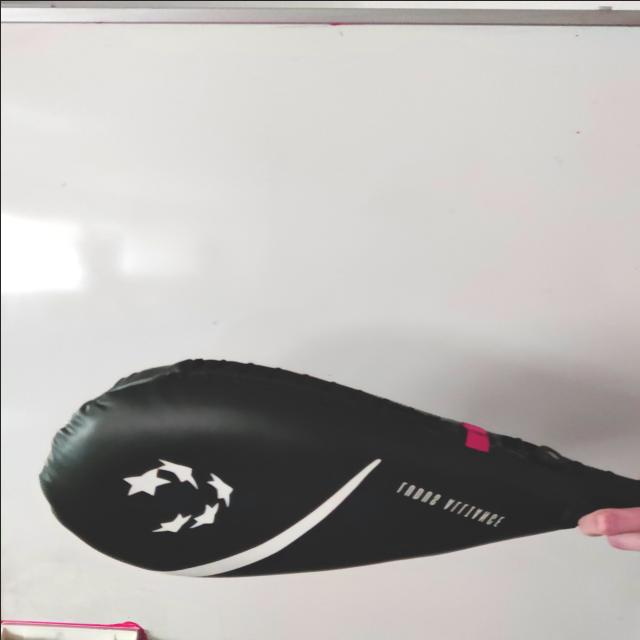paddle: (36, 354, 640, 578)
